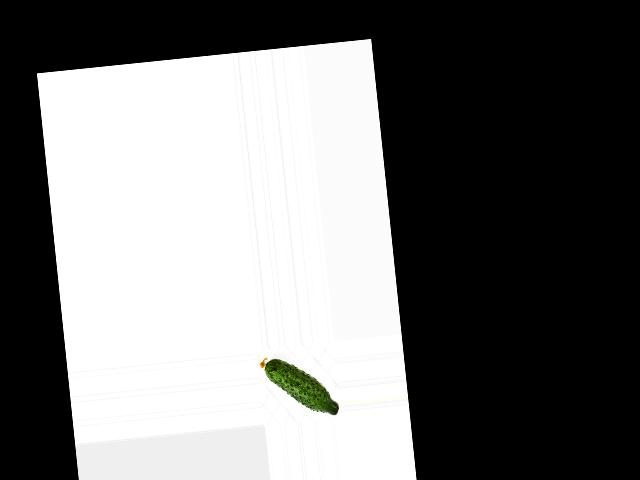cucumber: (259, 351, 338, 422)
